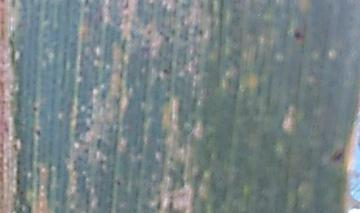tarspot: (329, 151, 346, 166), (293, 30, 304, 44), (32, 104, 42, 112), (35, 128, 42, 138), (162, 68, 170, 75), (116, 179, 122, 188)
